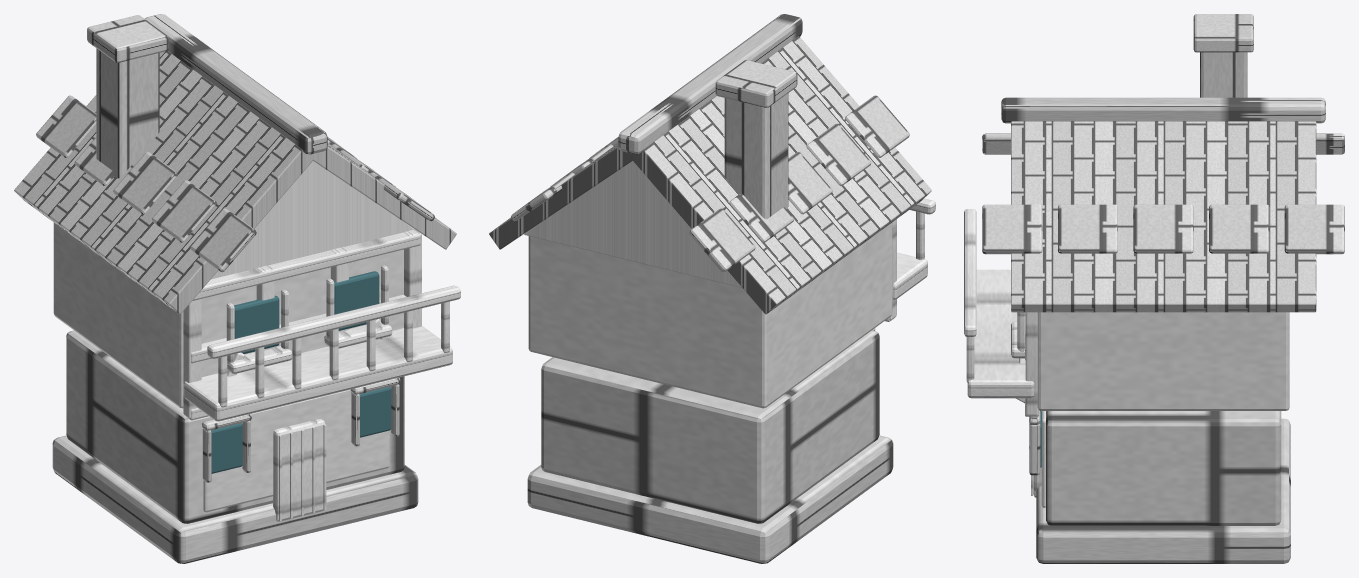
File: house_large.glb
The picture shows the model from 3 angles, left to right: view 1: azimuth 30°, elevation 25°; view 2: azimuth 150°, elevation 25°; view 3: azimuth 270°, elevation 25°; orthographic projection. The views are drawn at different scales.
Parts seen in each view (by area): view 1: LargeTimberHouse_Geometry; view 2: LargeTimberHouse_Geometry; view 3: LargeTimberHouse_Geometry.
Boxes of the visible parts, x1,y1,x2,y2 form: LargeTimberHouse_Geometry: (14, 14, 460, 563); LargeTimberHouse_Geometry: (489, 14, 935, 563); LargeTimberHouse_Geometry: (964, 14, 1344, 563).
Bounding box in the file's own units: 2.33 × 3.52 × 2.72.
Materials: 11 (10 with a texture image).
